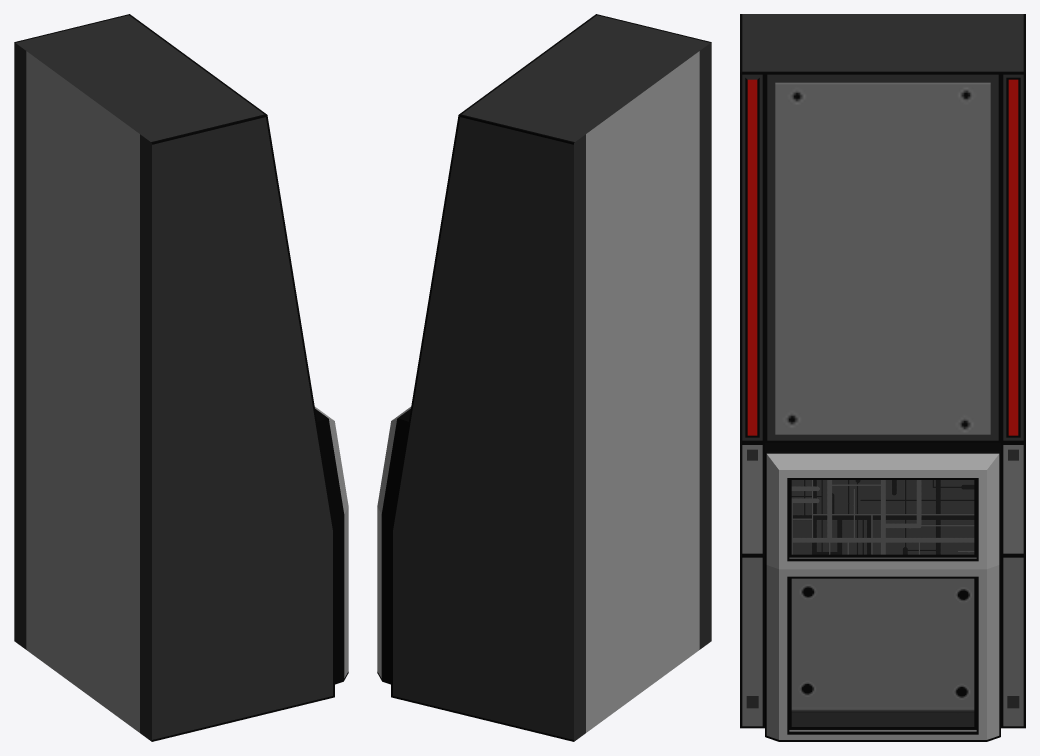
The model's file is Level 3 Pillar.fbx.
3 views of the same model, side by side, from view 1: azimuth 30°, elevation 25°; view 2: azimuth 150°, elevation 25°; view 3: azimuth 270°, elevation 25° (orthographic). The views are drawn at different scales.
Parts seen in each view (by area): view 1: Level 3 pillar; view 2: Level 3 pillar; view 3: Level 3 pillar.
Part boxes in pixels (box(x1,y1,x2,y2)): Level 3 pillar: box(14, 14, 348, 741); Level 3 pillar: box(377, 14, 711, 741); Level 3 pillar: box(740, 14, 1025, 741).
Bounding box in the file's own units: 3 × 7.2 × 2.71.
